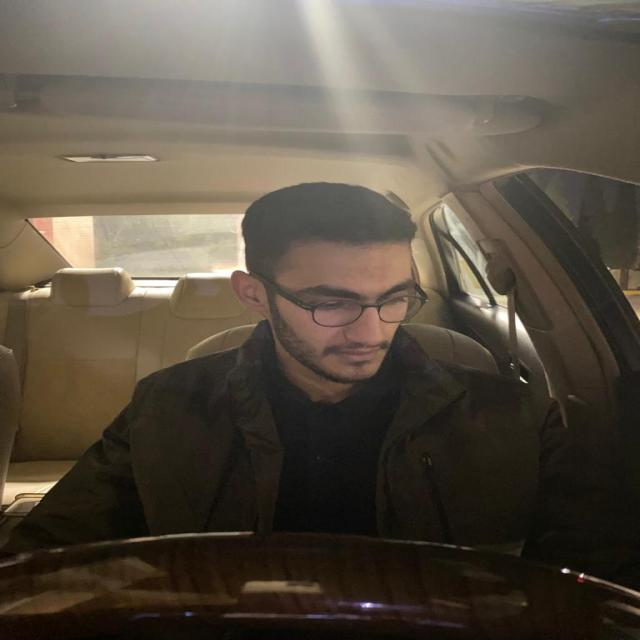person: (227, 177, 432, 393)
